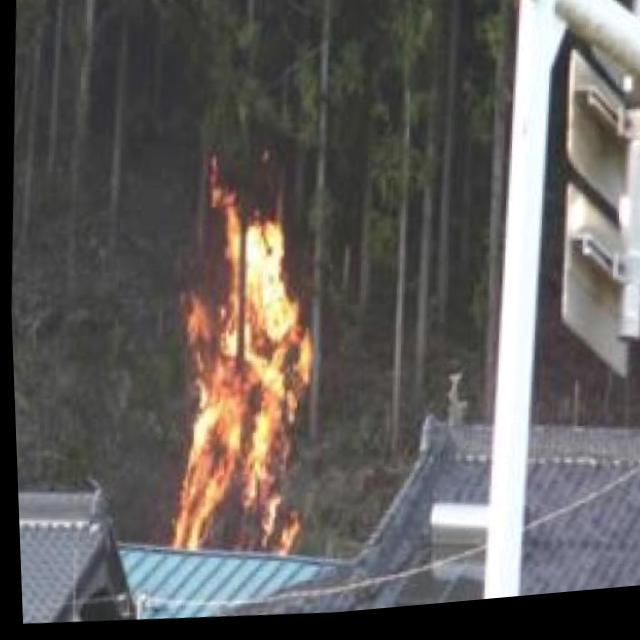fire: (148, 168, 332, 572)
